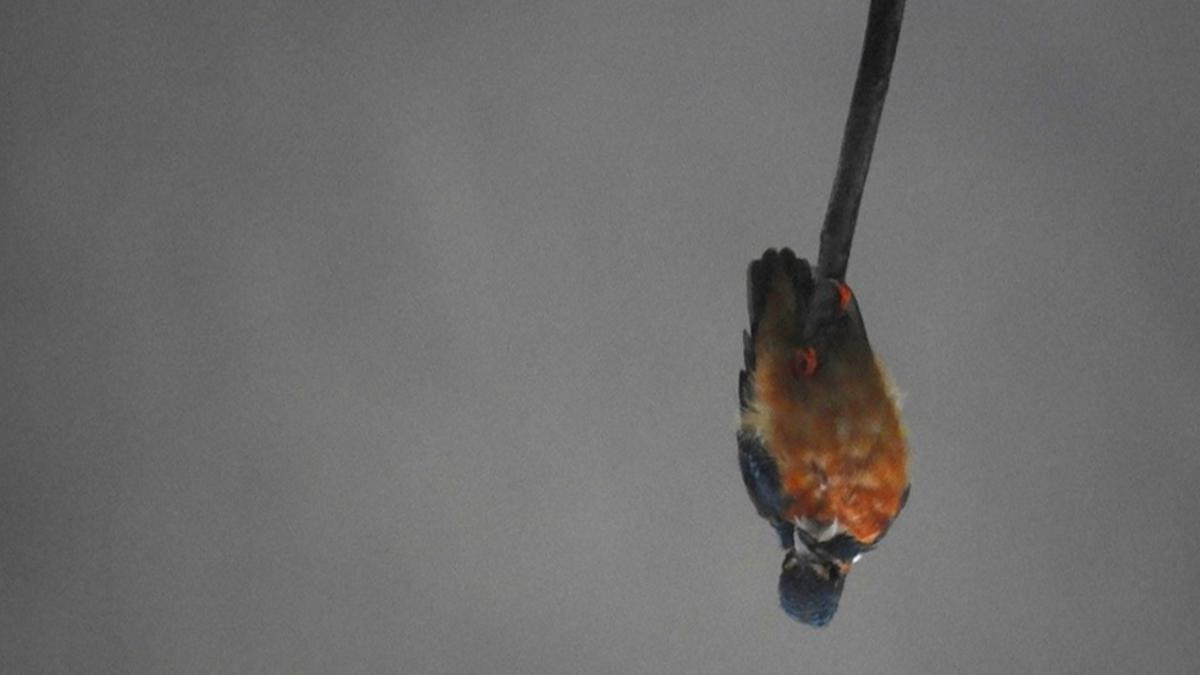kingfisher: (722, 237, 921, 635)
